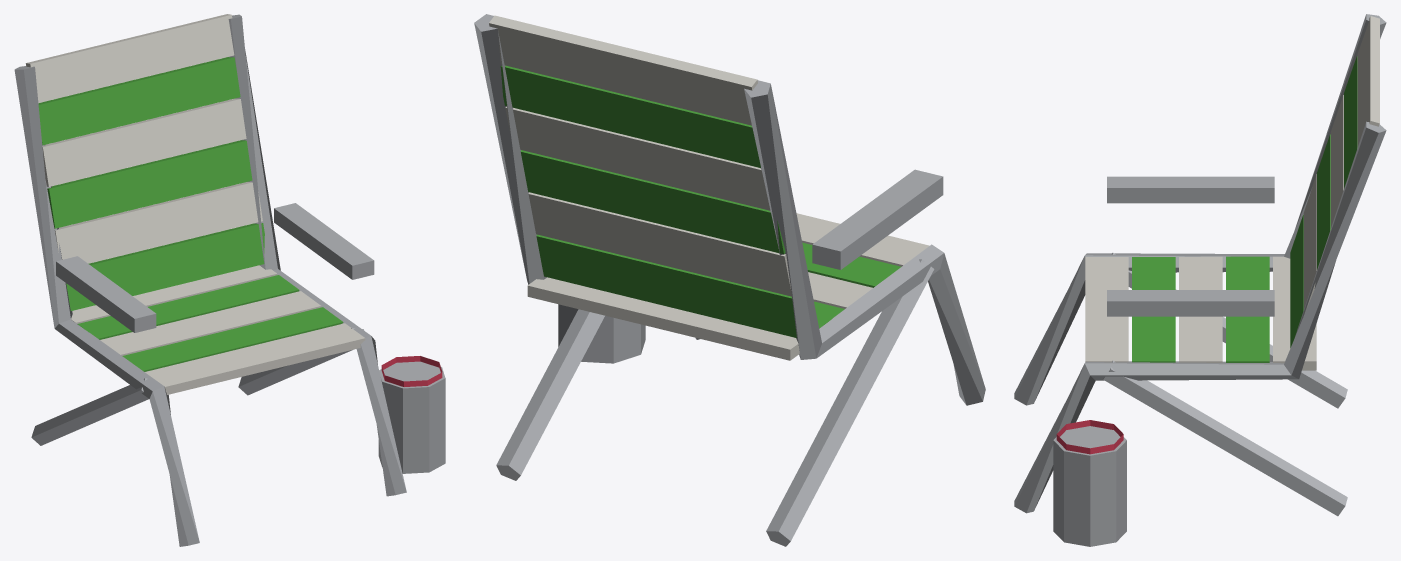
File: lawn_chair.glb
3 views of the same model, side by side, from view 1: azimuth 30°, elevation 25°; view 2: azimuth 150°, elevation 25°; view 3: azimuth 270°, elevation 25° (orthographic). The views are drawn at different scales.
Parts seen in each view (by area): view 1: body; view 2: body; view 3: body.
Boxes of the visible parts, x1,y1,x2,y2 form: body: (14, 14, 445, 546); body: (474, 14, 985, 546); body: (1014, 14, 1386, 546).
Size of the model in its own units: 1.1 by 1.29 by 1.11.
